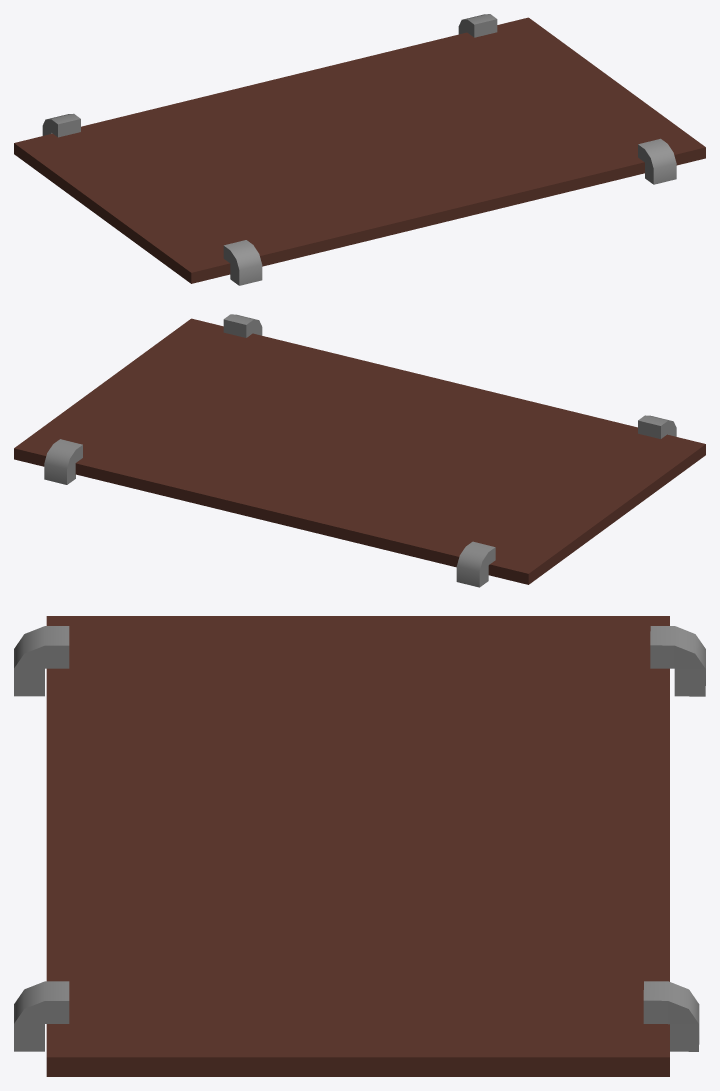
Rendered from PP_Board_01.fbx.
3 renders of one model, top to bottom at view 1: azimuth 30°, elevation 25°; view 2: azimuth 150°, elevation 25°; view 3: azimuth 270°, elevation 25°, orthographic. The views are drawn at different scales.
Parts seen in each view (by area): view 1: Panneau; view 2: Panneau; view 3: Panneau.
Boxes of the visible parts, x1=… form: Panneau: x1=14, y1=14, x2=705, y2=285; Panneau: x1=14, y1=314, x2=705, y2=587; Panneau: x1=14, y1=616, x2=705, y2=1076.
Bounding box in the file's own units: 1.32 × 0.8775 × 0.0712.
